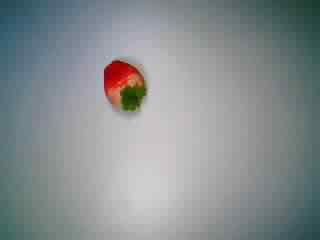strawberry: (93, 52, 159, 118)
